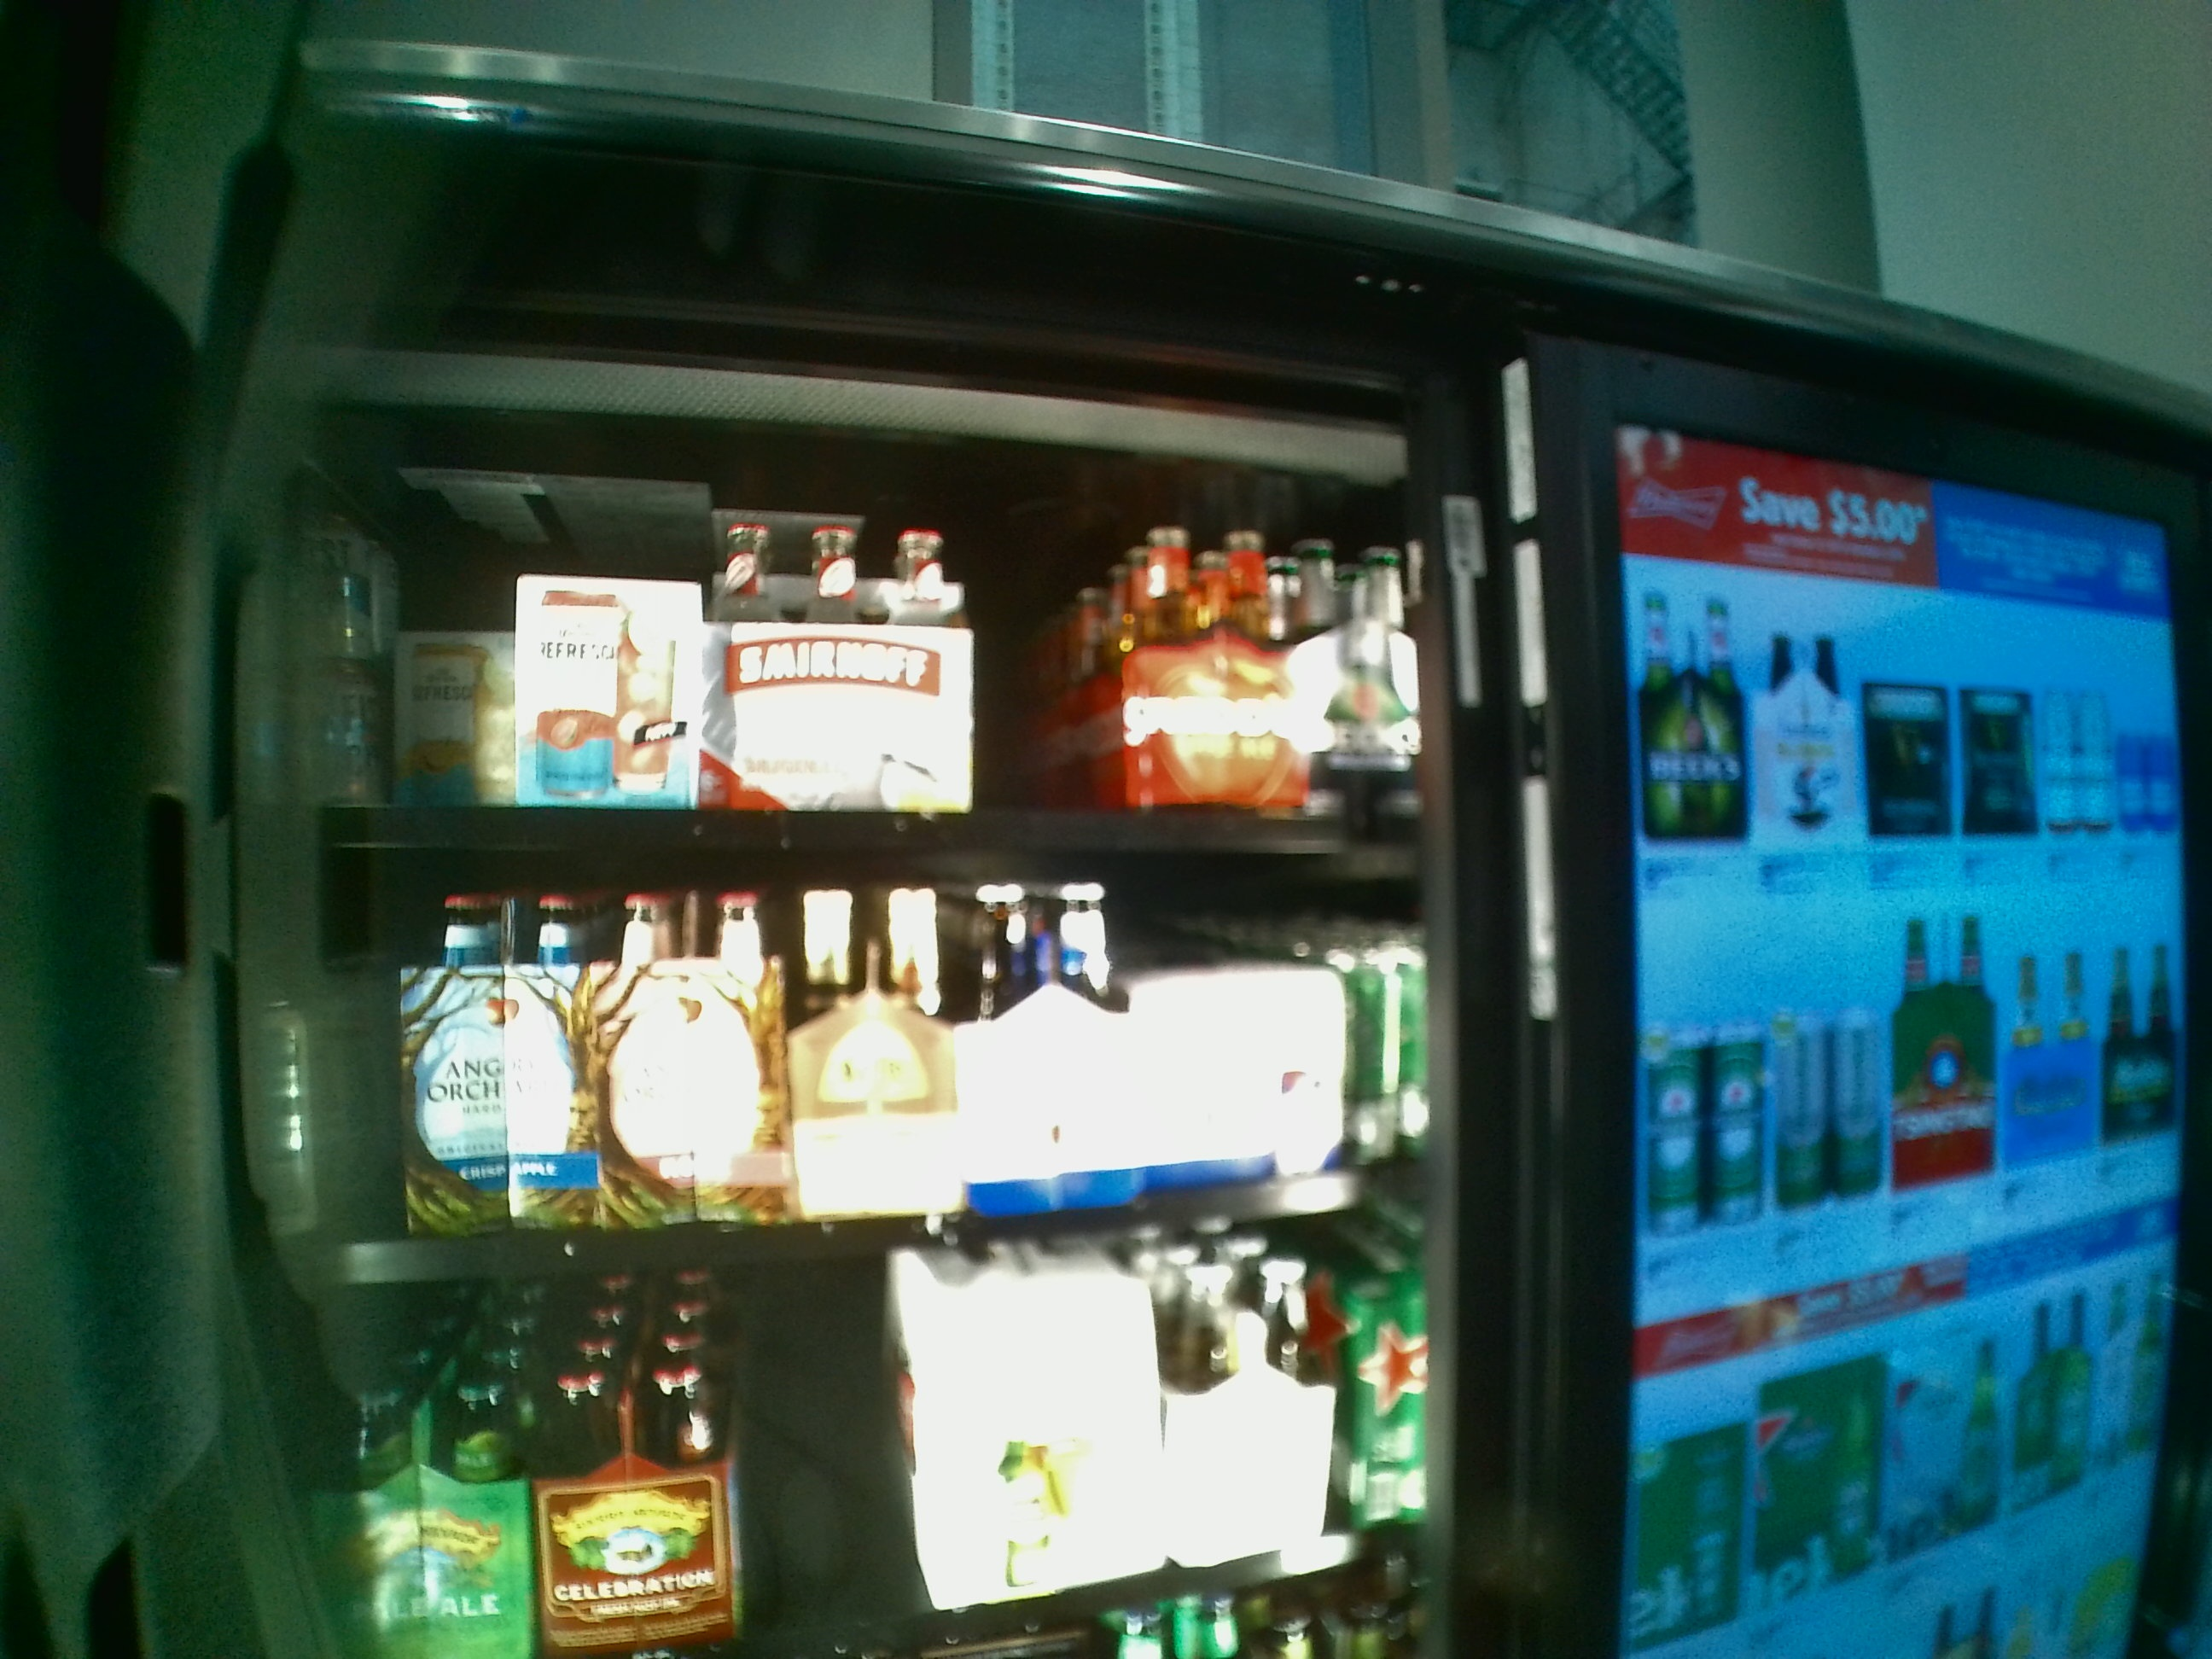shelf: (296, 864, 1423, 1298), (294, 472, 1416, 852)
